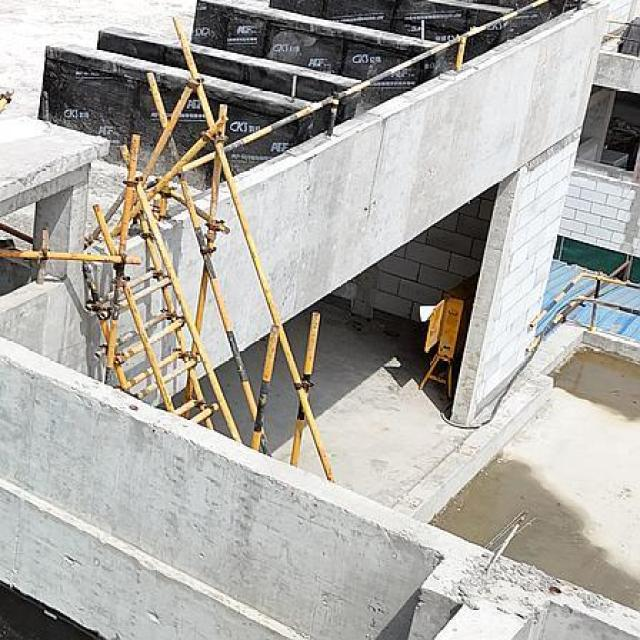edge_guardrail: (139, 0, 549, 191), (525, 272, 640, 352), (603, 19, 640, 44)
